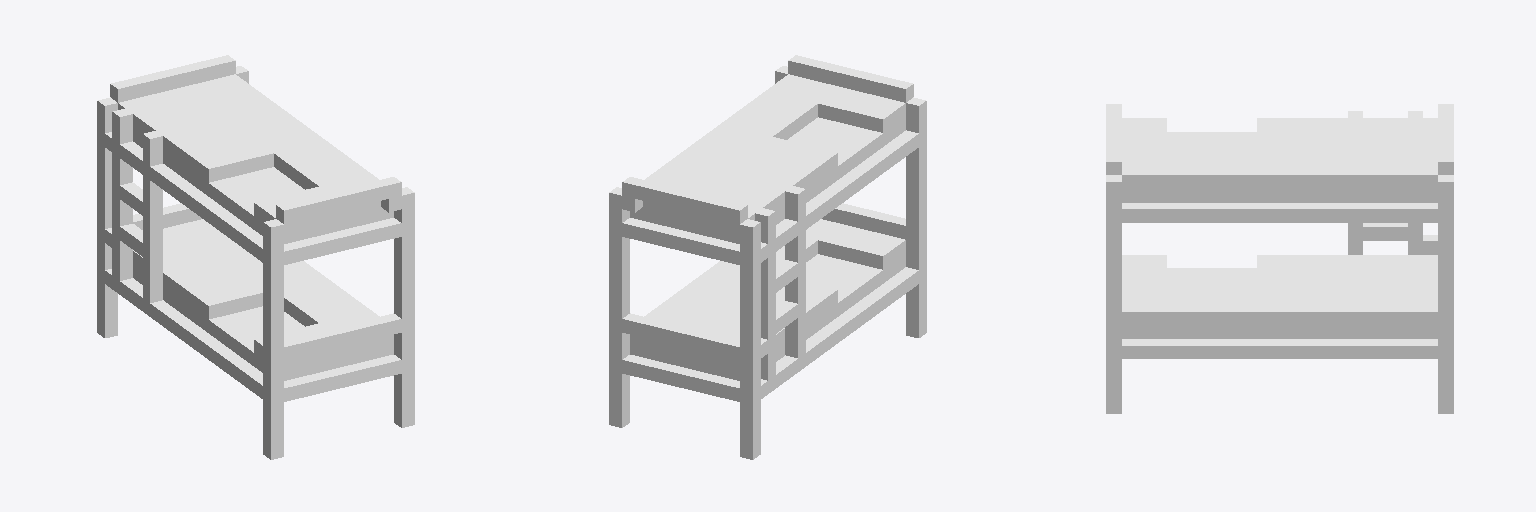
Rendered from Cell_Block_Menu_bed.obj.
3 renders of one model, left to right at view 1: azimuth 30°, elevation 25°; view 2: azimuth 150°, elevation 25°; view 3: azimuth 270°, elevation 25°, orthographic.
Bounding box in the file's own units: 11 × 18 × 23.